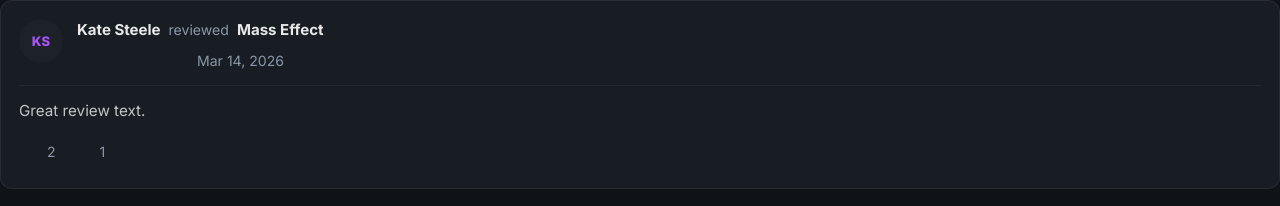
it: FeedReviewCard › likes a review and updates the local UI state
Click the button named "Like review" at (29, 152), box [11, 134, 47, 170]
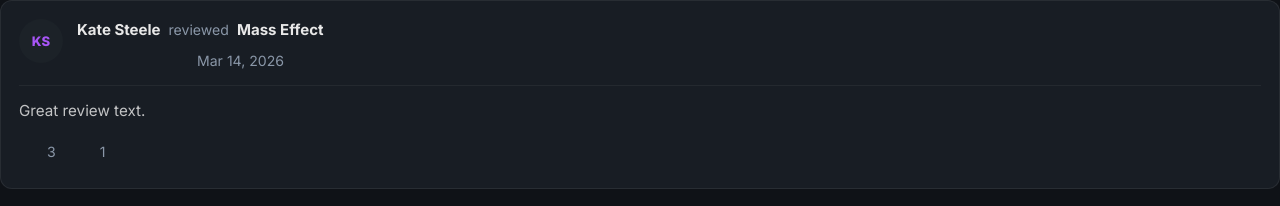
Check: the text "3" is shown, box [47, 141, 56, 162]
